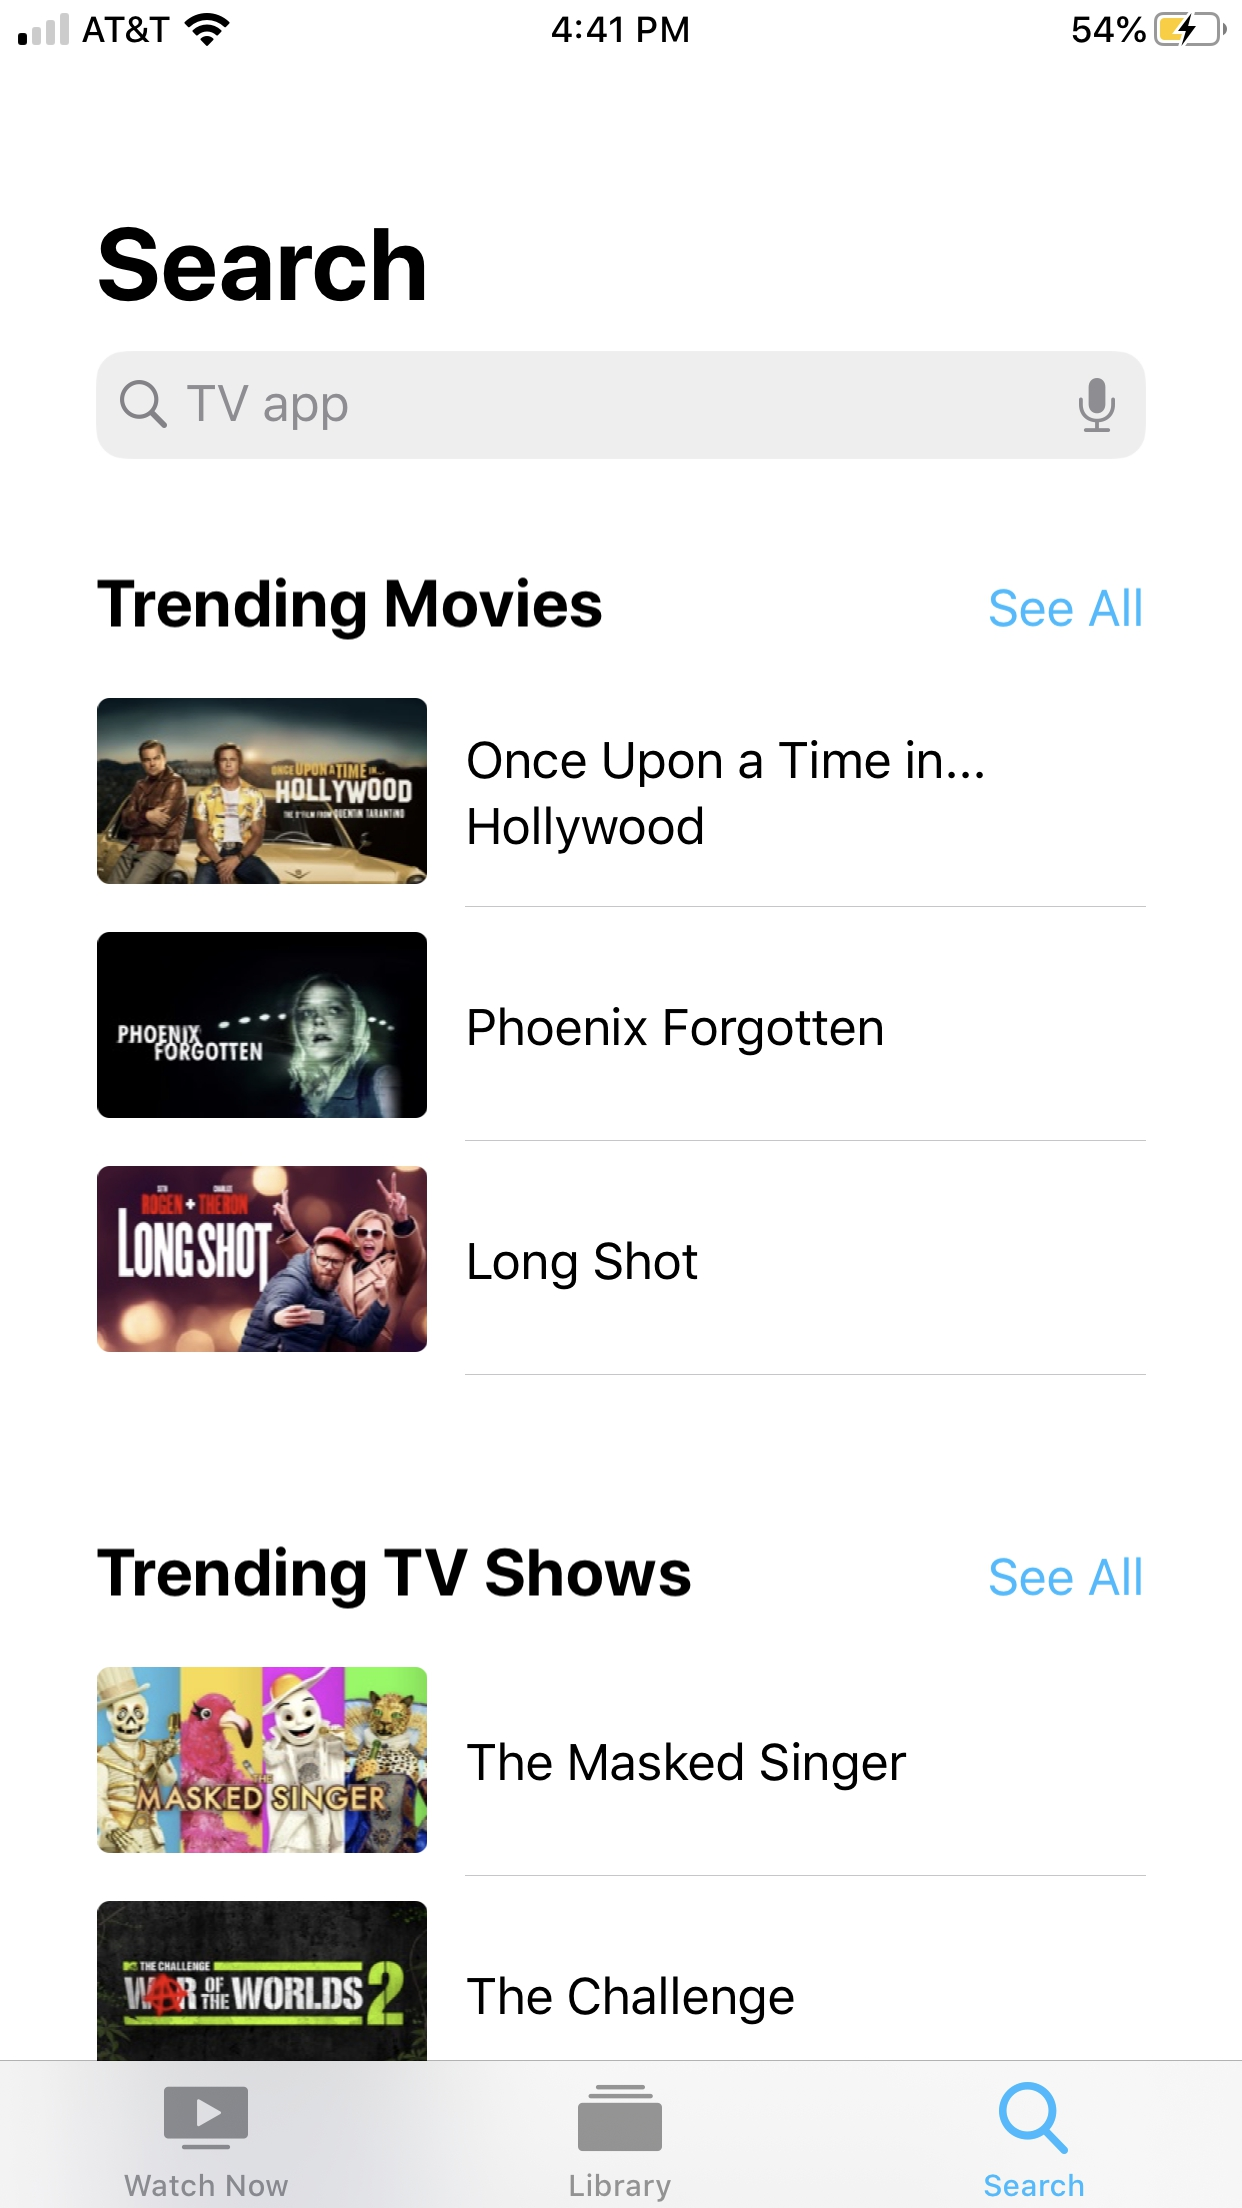EditText: (97, 350, 1146, 459)
Icon: (578, 2085, 663, 2150), (164, 2087, 249, 2150), (998, 2082, 1068, 2153), (120, 381, 167, 428), (1080, 378, 1115, 432)
Image: (97, 1166, 428, 1353), (97, 698, 428, 884), (97, 933, 428, 1118), (97, 1902, 428, 2062)
Text: (469, 740, 983, 854), (97, 1545, 692, 1609), (97, 576, 602, 641), (99, 227, 425, 302), (467, 1742, 907, 1791), (469, 1007, 883, 1055), (467, 1976, 795, 2025), (469, 1240, 698, 1291), (187, 385, 347, 431), (990, 587, 1142, 628), (990, 1556, 1142, 1595), (124, 2172, 288, 2196), (570, 2173, 670, 2200), (984, 2175, 1084, 2196)
UpperTaskBar: (2, 2, 1242, 47)
